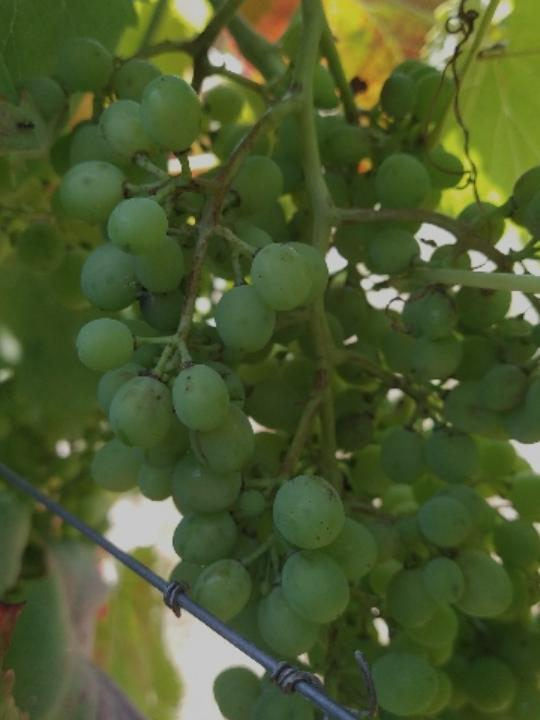grape: (0, 20, 540, 720)
